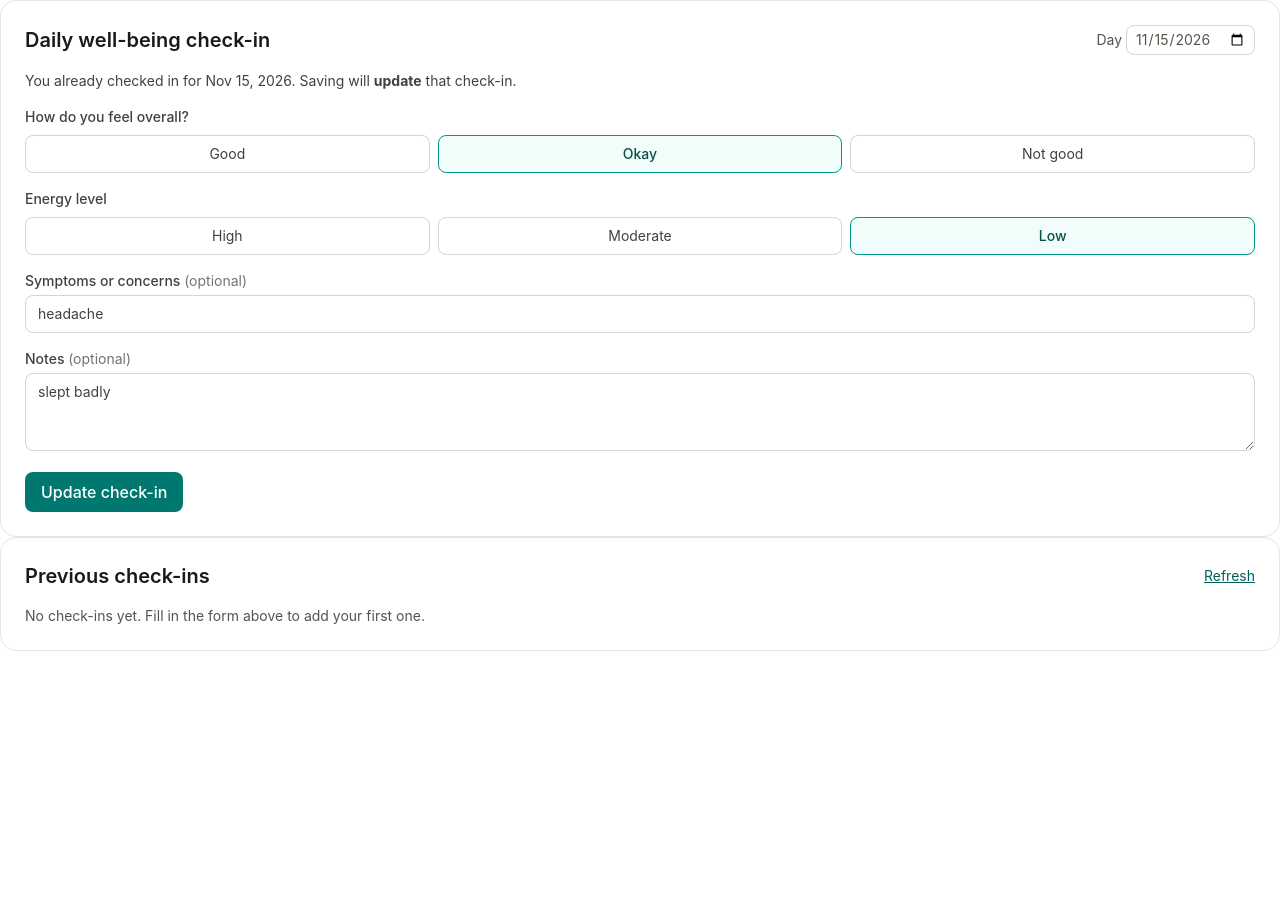
Test: check-in form (parent) › pre-fills an existing check-in for the day and UPDATES it (no duplicate)
Expected: the button "Update check-in" is shown, [25,472,183,512]
Expected: the text "You already checked in for" is shown, [25,72,205,89]
Click the radio button labelled "Not good": (1053, 154) [850,135,1255,173]
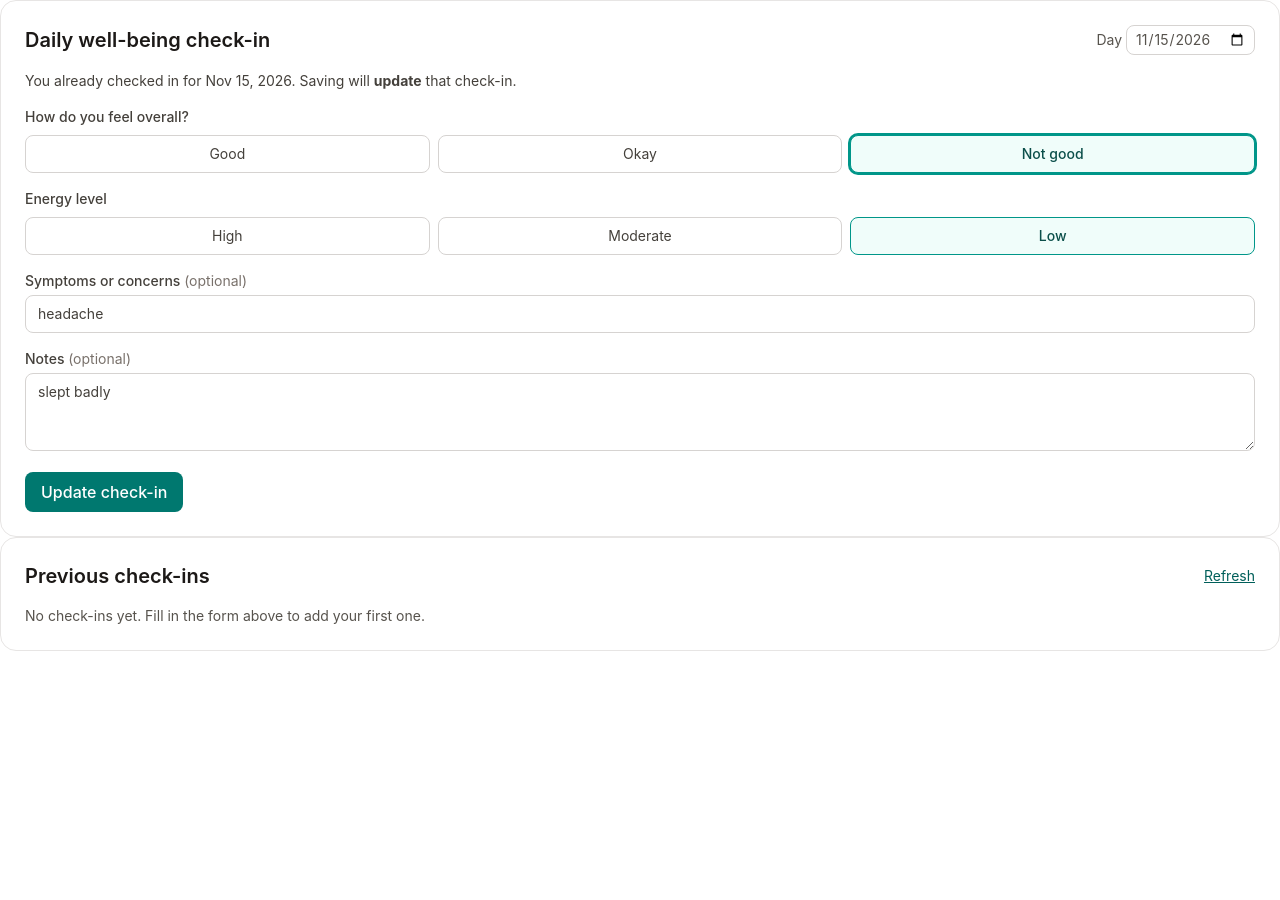
Click the button "Update check-in": (104, 492) [25,472,183,512]
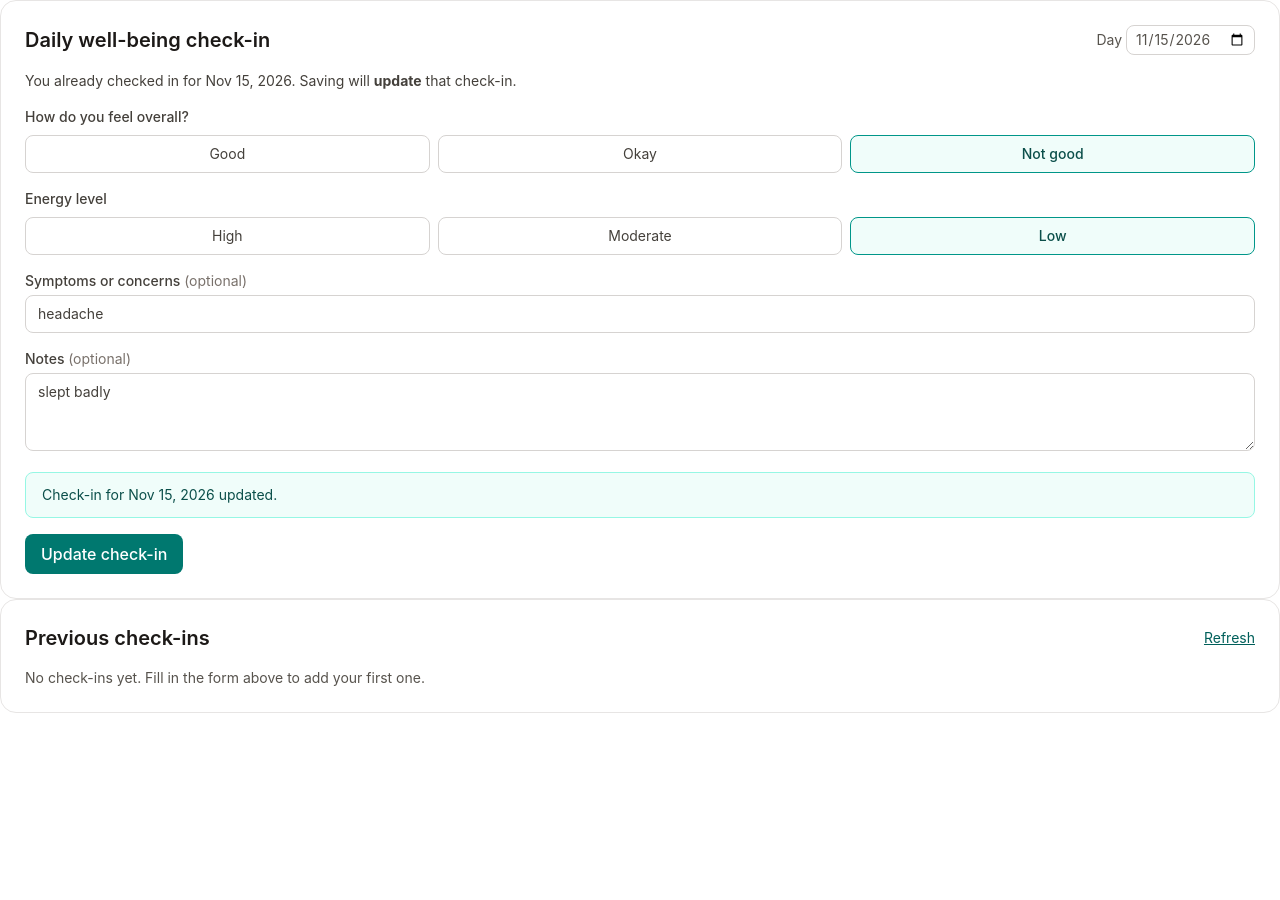
Expected: the text "Check-in for Nov 15, 2026 updated." is shown, [25,472,1255,518]
